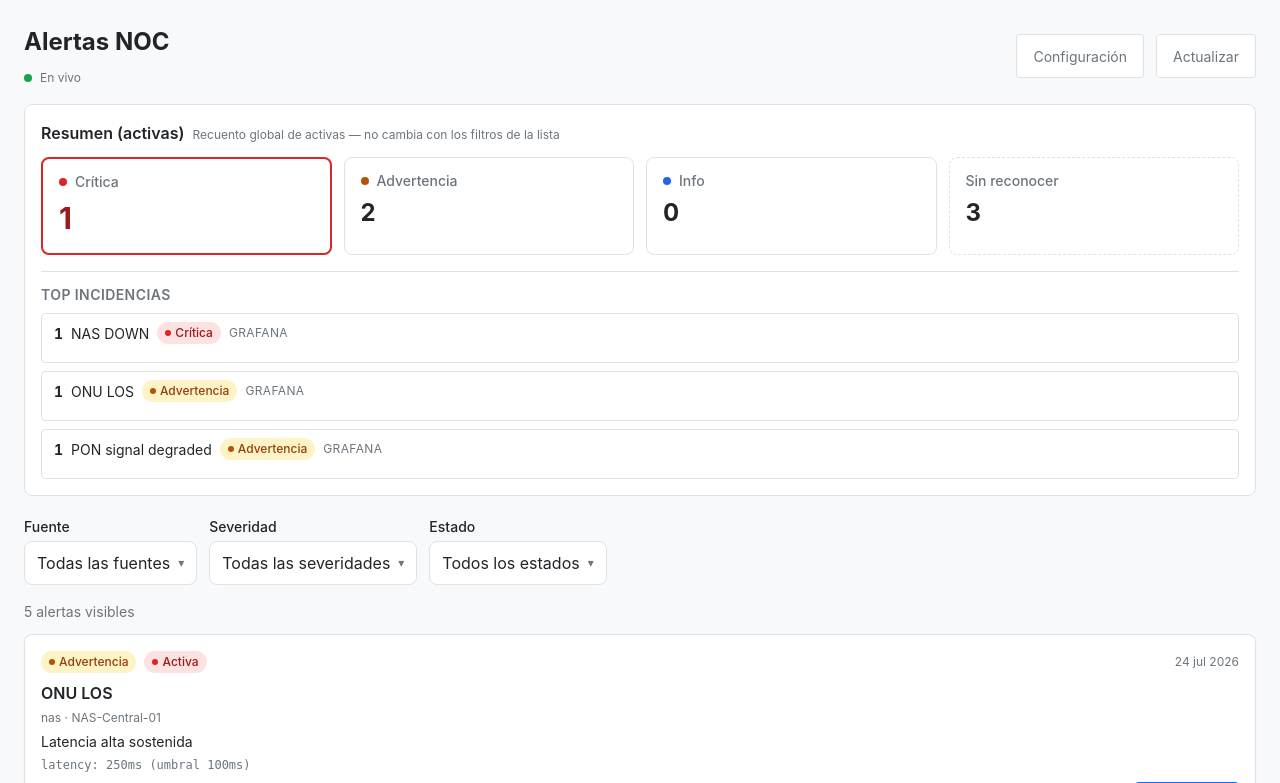
Test case: MEDIO-1 (3ª review adversarial): the reducer models summary ENGAGEMENT, not "field is non-empty" › door 2: engage a severity tile, then clear it with the <Select> → the status is not left stuck on "Activa"
Click the button "Advertencia 2" at (417, 180), box x1=344 y1=157 x2=634 y2=255
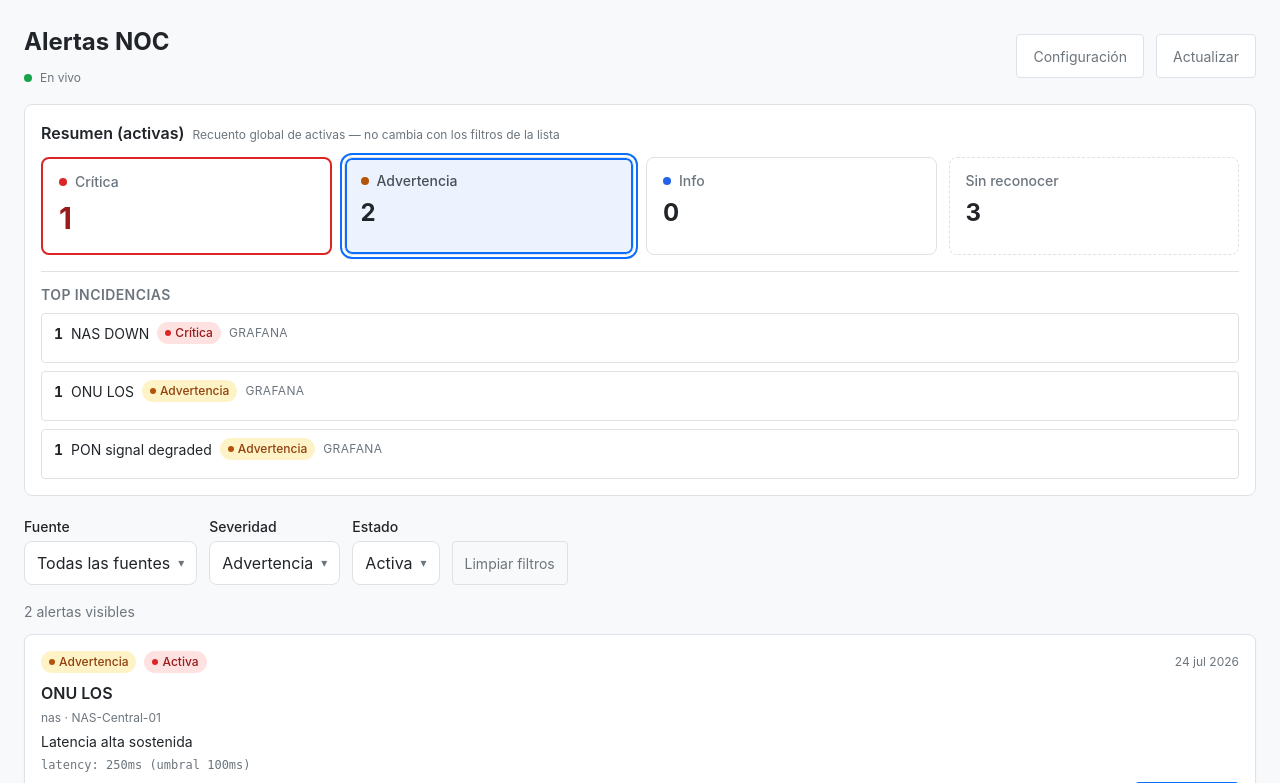
Now the dropdown named "estado" shows "Activa", box x1=352 y1=541 x2=440 y2=585
// El operario limpia la severidad a mano: el tile ya no sostiene nada.
Click the dropdown named "severidad" at (275, 563), box x1=209 y1=541 x2=340 y2=585
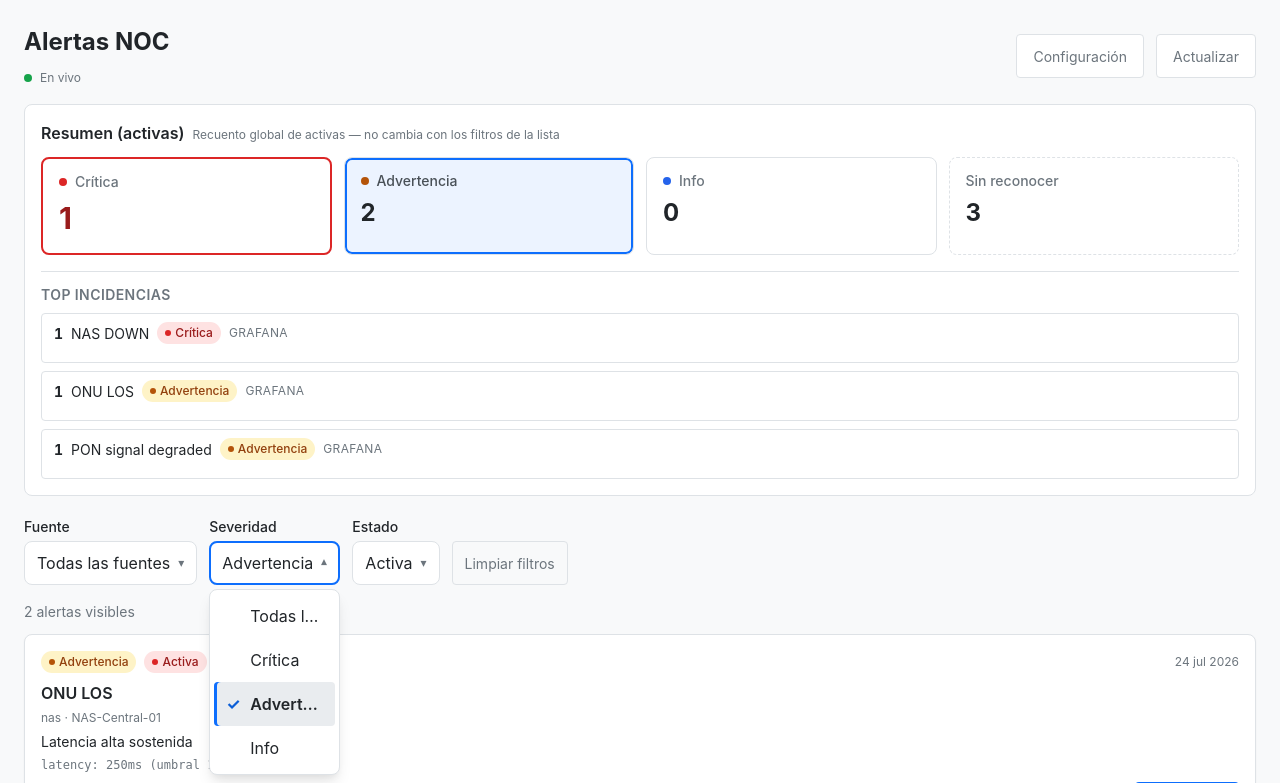
Click the option "Todas las severidades" at (334, 616), box x1=250 y1=606 x2=418 y2=626
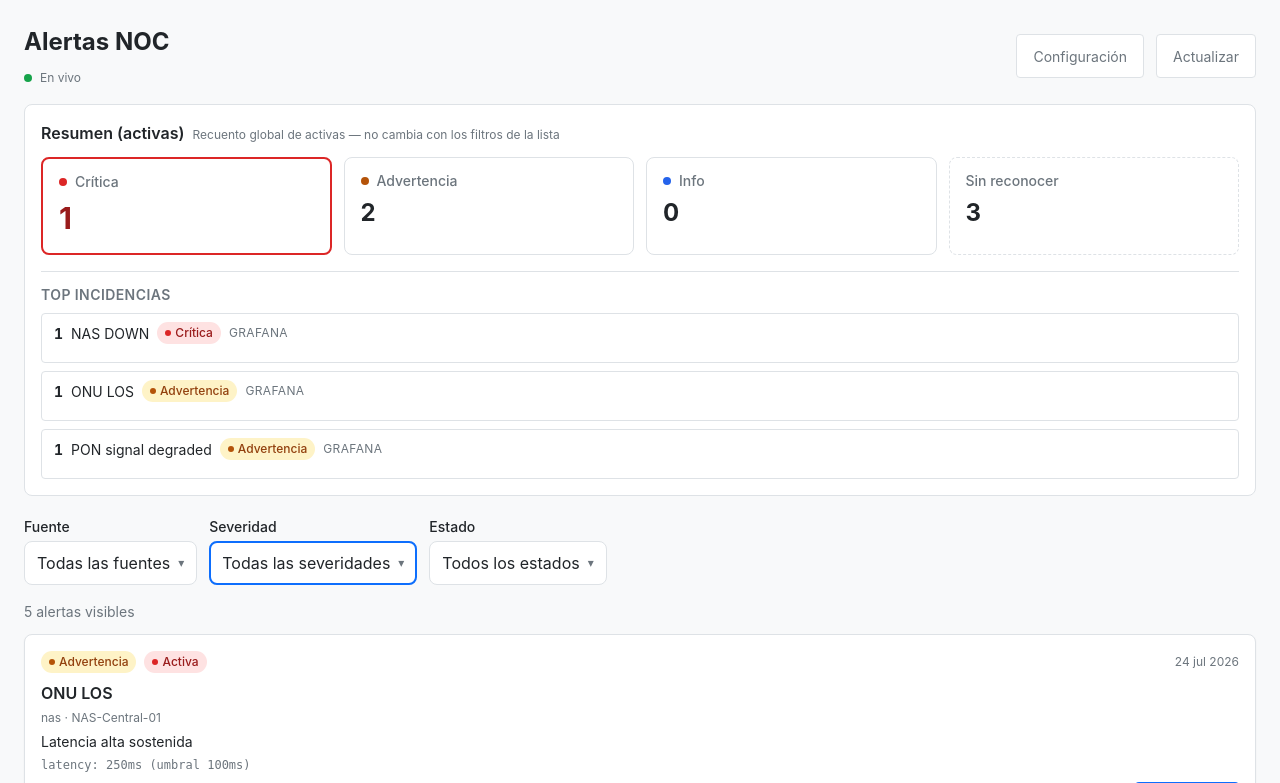
Now the dropdown labelled "Todos los estados ▾" is shown, box x1=429 y1=541 x2=607 y2=585
